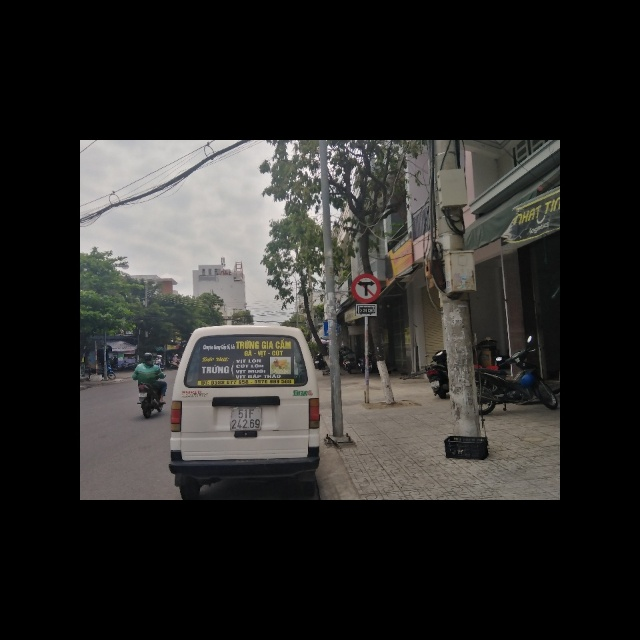Cấm rẽ trái và rẽ phải: (352, 274, 380, 303)
